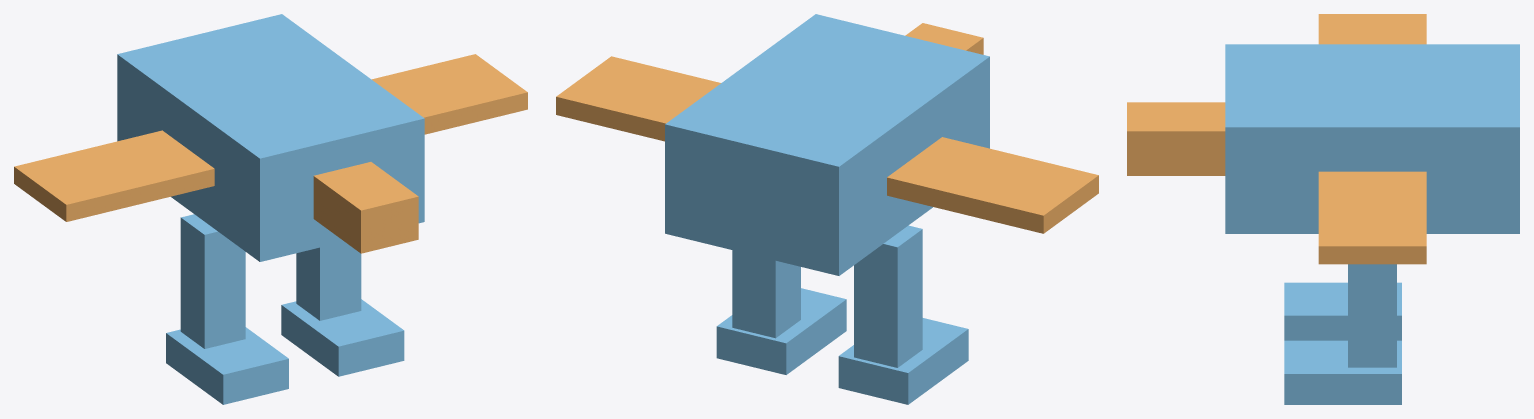
File: hierarchy_test.glb
The picture shows the model from 3 angles, left to right: view 1: azimuth 30°, elevation 25°; view 2: azimuth 150°, elevation 25°; view 3: azimuth 270°, elevation 25°; orthographic projection. The views are drawn at different scales.
Visible parts, largest first — view 1: Body, RightWing, RightLegShape, Nose, LeftWing, LeftFoot, RightFoot, LeftLegShape; view 2: Body, RightWing, RightLegShape, LeftWing, RightFoot, LeftFoot, LeftLegShape, Nose; view 3: Body, LeftWing, Nose, LeftFoot, LeftLegShape, RightFoot, RightWing.
Part boxes in pixels (x1,y1,x2,y2): Body: (117, 14, 424, 261); RightWing: (14, 130, 214, 221); RightLegShape: (180, 214, 245, 348); Nose: (313, 162, 418, 253); LeftWing: (372, 54, 527, 134); LeftFoot: (281, 299, 404, 376); RightFoot: (166, 327, 288, 404); LeftLegShape: (296, 241, 361, 320); Body: (665, 14, 989, 275); RightWing: (887, 137, 1098, 233); RightLegShape: (854, 225, 922, 367); LeftWing: (556, 56, 720, 141); RightFoot: (838, 318, 968, 404); LeftFoot: (716, 288, 846, 374); LeftLegShape: (732, 250, 800, 338); Nose: (905, 23, 983, 54); Body: (1225, 44, 1519, 233); LeftWing: (1318, 171, 1426, 264); Nose: (1127, 102, 1225, 175); LeftFoot: (1284, 340, 1401, 404); LeftLegShape: (1348, 264, 1396, 367); RightFoot: (1284, 282, 1401, 340); RightWing: (1318, 14, 1426, 44).
Size of the model in its own units: 5.6 by 3.07 by 4.
